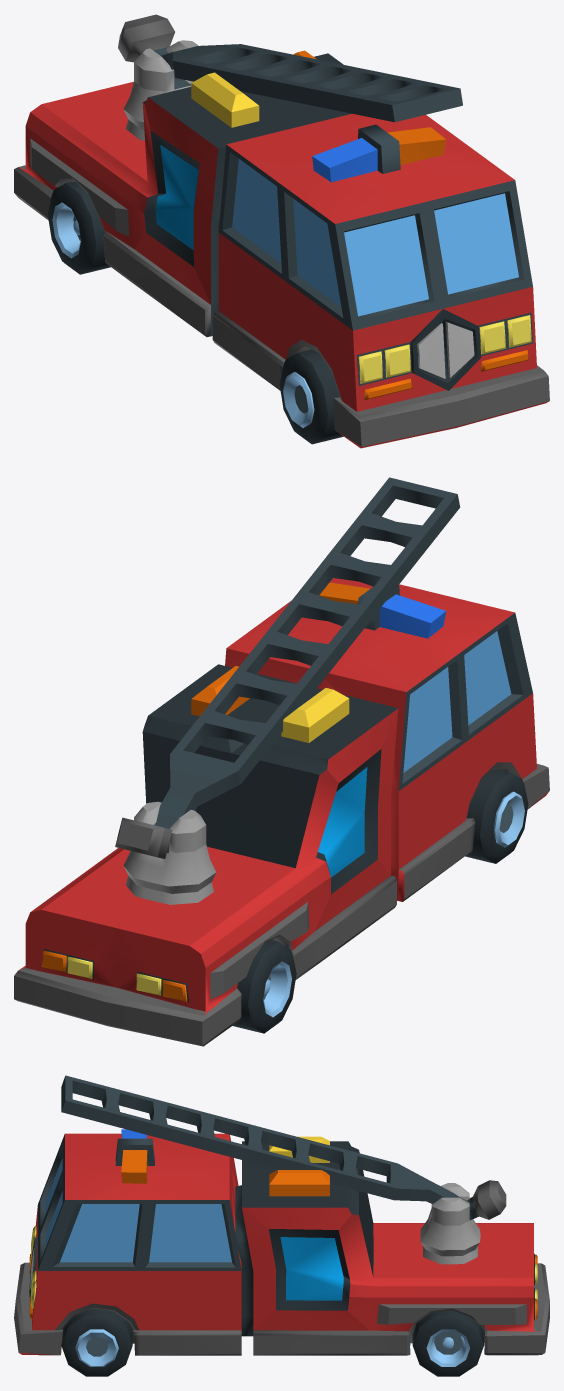
The model's file is FireTruck.fbx.
3 renders of one model, top to bottom at view 1: azimuth 30°, elevation 25°; view 2: azimuth 150°, elevation 25°; view 3: azimuth 270°, elevation 25°, orthographic. The views are drawn at different scales.
Parts seen in each view (by area): view 1: FireTruck, Stairs, FireTruckWheelFrontR, FireTruckWheelBackR, StairsHolder; view 2: FireTruck, Stairs, StairsHolder, FireTruckWheelFrontR, FireTruckWheelBackR; view 3: FireTruck, Stairs, FireTruckWheelFrontL, FireTruckWheelBackL, StairsHolder.
Boxes of the visible parts, x1=… form: FireTruck: x1=14, y1=50, x2=549, y2=448; Stairs: x1=118, y1=14, x2=462, y2=122; FireTruckWheelFrontR: x1=279, y1=349, x2=343, y2=444; FireTruckWheelBackR: x1=47, y1=181, x2=110, y2=274; StairsHolder: x1=123, y1=40, x2=198, y2=140; FireTruck: x1=14, y1=578, x2=549, y2=1046; Stairs: x1=115, y1=477, x2=460, y2=858; StairsHolder: x1=123, y1=801, x2=216, y2=904; FireTruckWheelFrontR: x1=465, y1=769, x2=528, y2=863; FireTruckWheelBackR: x1=232, y1=940, x2=296, y2=1033; FireTruck: x1=14, y1=1129, x2=549, y2=1355; Stairs: x1=61, y1=1075, x2=506, y2=1220; FireTruckWheelFrontL: x1=61, y1=1309, x2=132, y2=1376; FireTruckWheelBackL: x1=412, y1=1310, x2=483, y2=1376; StairsHolder: x1=420, y1=1183, x2=480, y2=1264.
Size of the model in its own units: 7.02 by 10.32 by 19.87.
